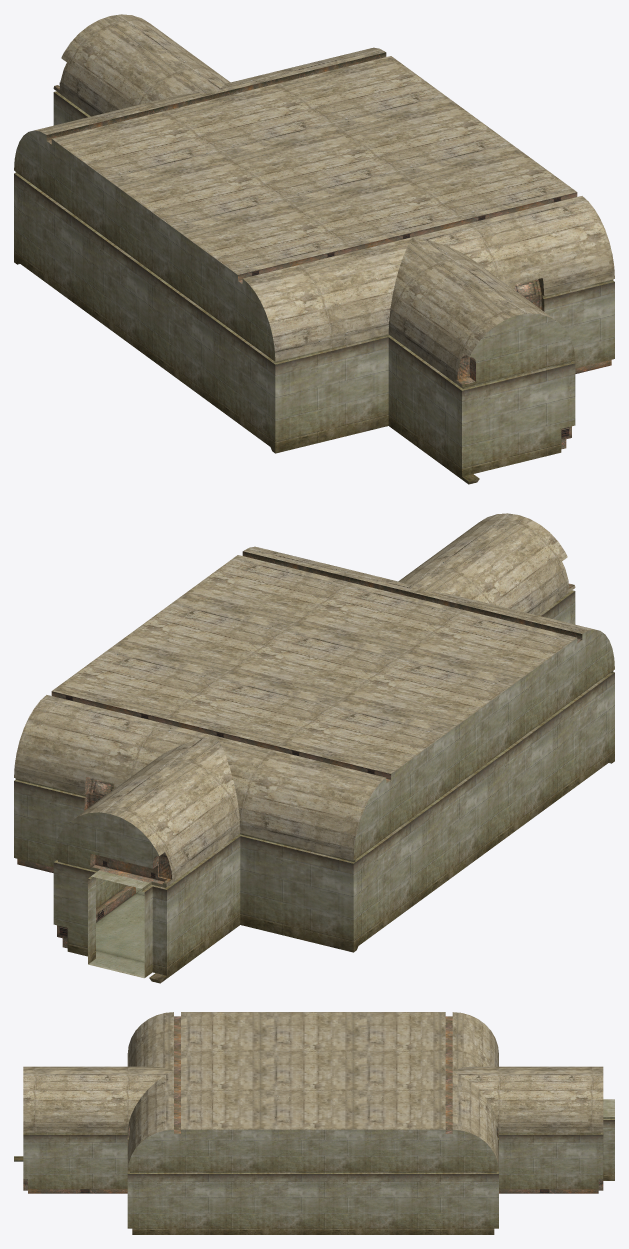
File: poi_all_bunker_allum_mine_r35_smallroom35_mesh_r35.fbx
3 renders of one model, top to bottom at view 1: azimuth 30°, elevation 25°; view 2: azimuth 150°, elevation 25°; view 3: azimuth 270°, elevation 25°, orthographic. The views are drawn at different scales.
Visible parts, largest first — view 1: mesh_node; view 2: mesh_node; view 3: mesh_node.
Part boxes in pixels (bbox=[...]): mesh_node: bbox=[14, 14, 614, 484]; mesh_node: bbox=[14, 513, 614, 983]; mesh_node: bbox=[14, 1012, 614, 1234].
Bounding box in the file's own units: 12 × 5.1 × 25.9.
